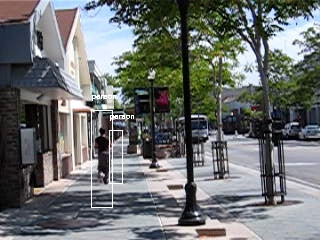person: (94, 128, 113, 185), (93, 128, 112, 185), (95, 128, 114, 185), (94, 127, 113, 184), (94, 129, 113, 186)
target_negative: (62, 71, 241, 228), (270, 122, 316, 195), (246, 116, 278, 205), (266, 72, 304, 136), (151, 149, 262, 170), (248, 27, 277, 49)
